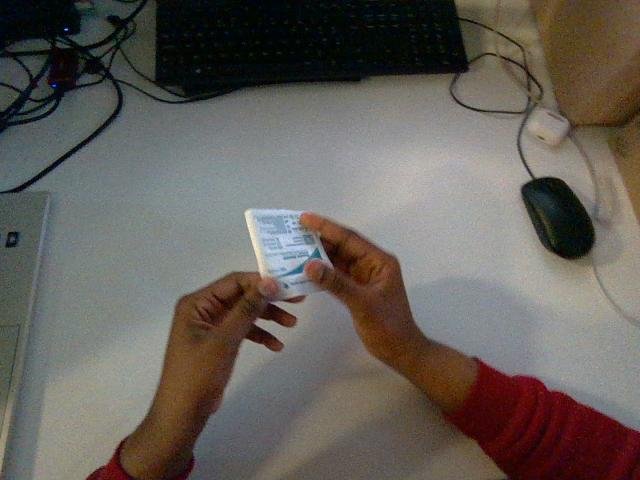gauze: (245, 209, 330, 299)
